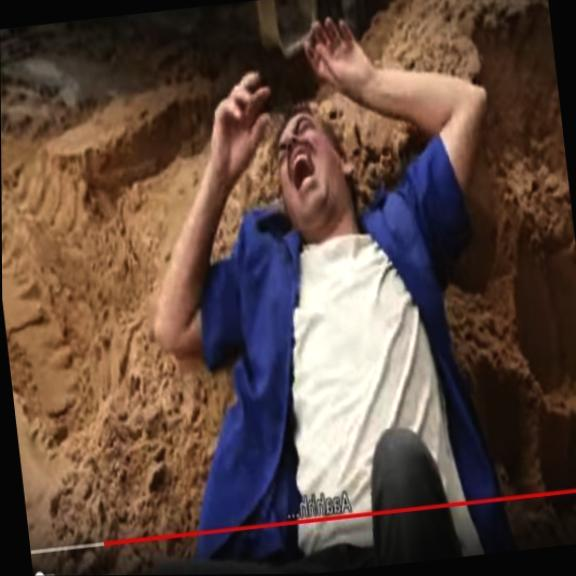no_safety_vest: (155, 175, 517, 546)
